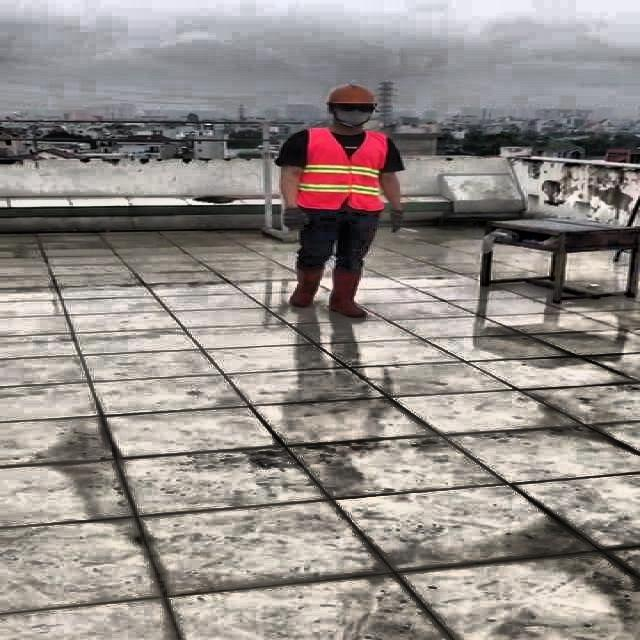safety_helmet: (322, 78, 381, 108)
safety_jacket: (297, 128, 387, 210)
